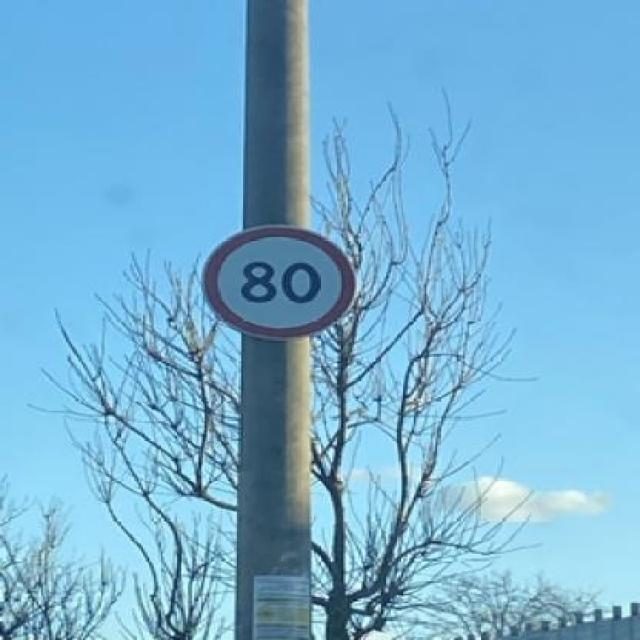forb_speed_over_80: (205, 224, 356, 339)
